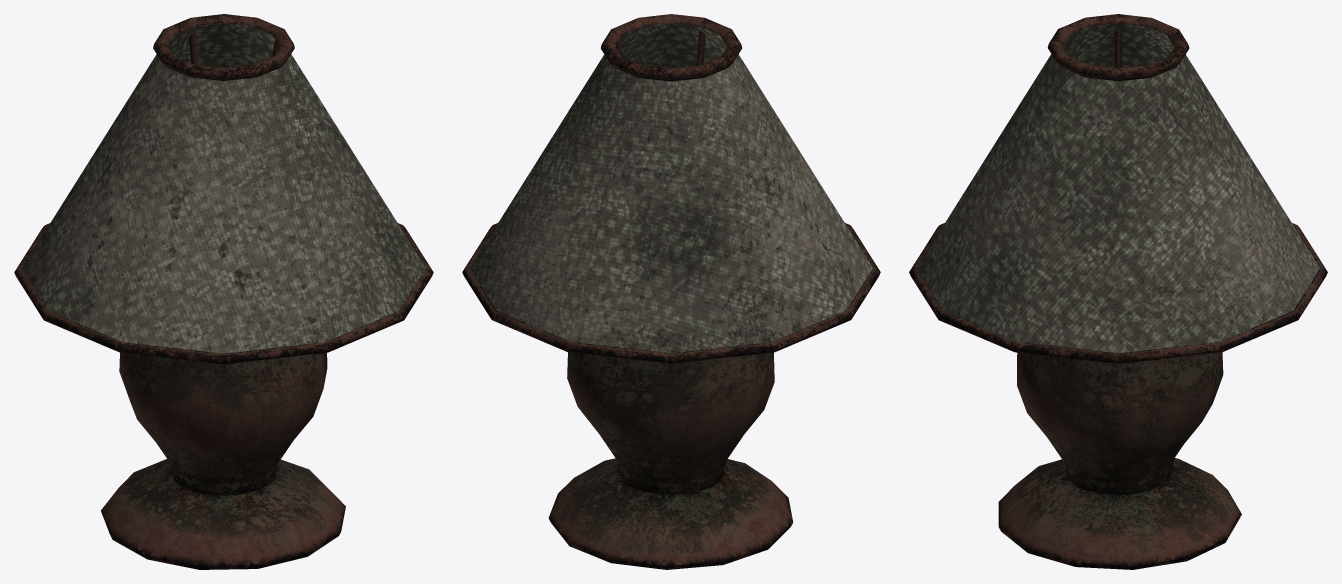
The model's file is Lamp.fbx.
3 views of the same model, side by side, from view 1: azimuth 30°, elevation 25°; view 2: azimuth 150°, elevation 25°; view 3: azimuth 270°, elevation 25° (orthographic).
Parts seen in each view (by area): view 1: Lamp; view 2: Lamp; view 3: Lamp.
Boxes of the visible parts, bbox=[...] form: Lamp: bbox=[14, 14, 433, 569]; Lamp: bbox=[462, 14, 880, 569]; Lamp: bbox=[909, 14, 1327, 569].
Bounding box in the file's own units: 31.64 × 39.82 × 31.64.
1 material, 1 textured.
